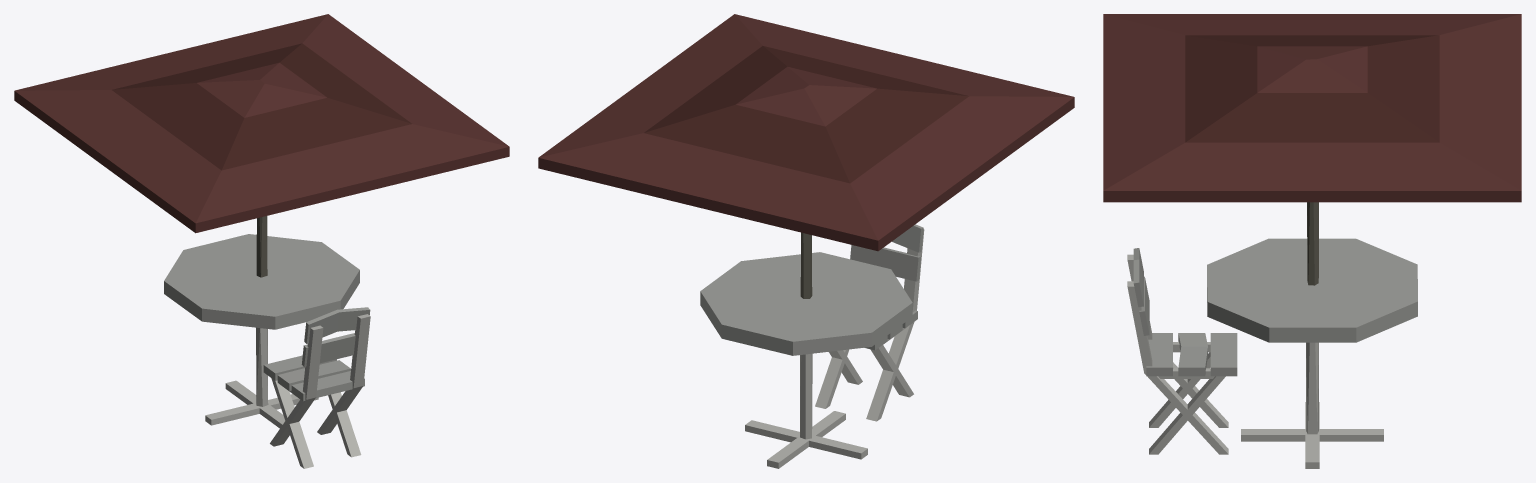
The model's file is Cafe_Table_A.fbx.
The picture shows the model from 3 angles, left to right: view 1: azimuth 30°, elevation 25°; view 2: azimuth 150°, elevation 25°; view 3: azimuth 270°, elevation 25°; orthographic projection. The views are drawn at different scales.
Parts seen in each view (by area): view 1: Cafe_Table, Cafe_Chair; view 2: Cafe_Table, Cafe_Chair; view 3: Cafe_Table, Cafe_Chair.
Part boxes in pixels (bbox=[...]): Cafe_Table: bbox=[14, 14, 509, 428]; Cafe_Chair: bbox=[263, 307, 370, 468]; Cafe_Table: bbox=[538, 14, 1074, 468]; Cafe_Chair: bbox=[815, 224, 924, 421]; Cafe_Table: bbox=[1103, 14, 1521, 468]; Cafe_Chair: bbox=[1127, 248, 1237, 454].
Size of the model in its own units: 202 by 202 by 202.
